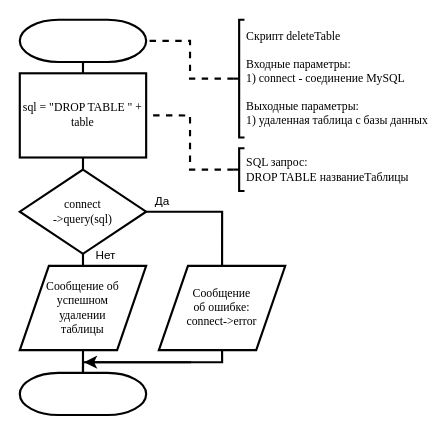
Some shapes in this 446 by 434 pixel diagram are drawn without their labels. The shapes that lost their labels are listed below. From the top down, each one's box as (x1, y1, x2, y2) in pixels, then its label:
(18, 18, 147, 62): Начало
(18, 371, 147, 416): Конец
